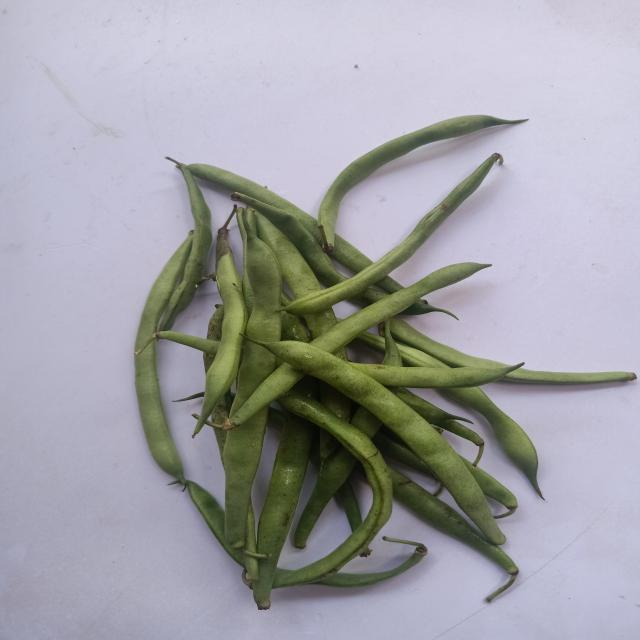Beans: (265, 341, 506, 546), (285, 155, 499, 315), (318, 114, 526, 251), (273, 390, 393, 589), (309, 262, 488, 353), (133, 236, 191, 485), (252, 411, 314, 611), (191, 219, 246, 437), (157, 165, 211, 331), (222, 409, 267, 549), (236, 208, 281, 342), (391, 318, 505, 368), (224, 363, 304, 430), (229, 339, 277, 418), (504, 369, 637, 384)
